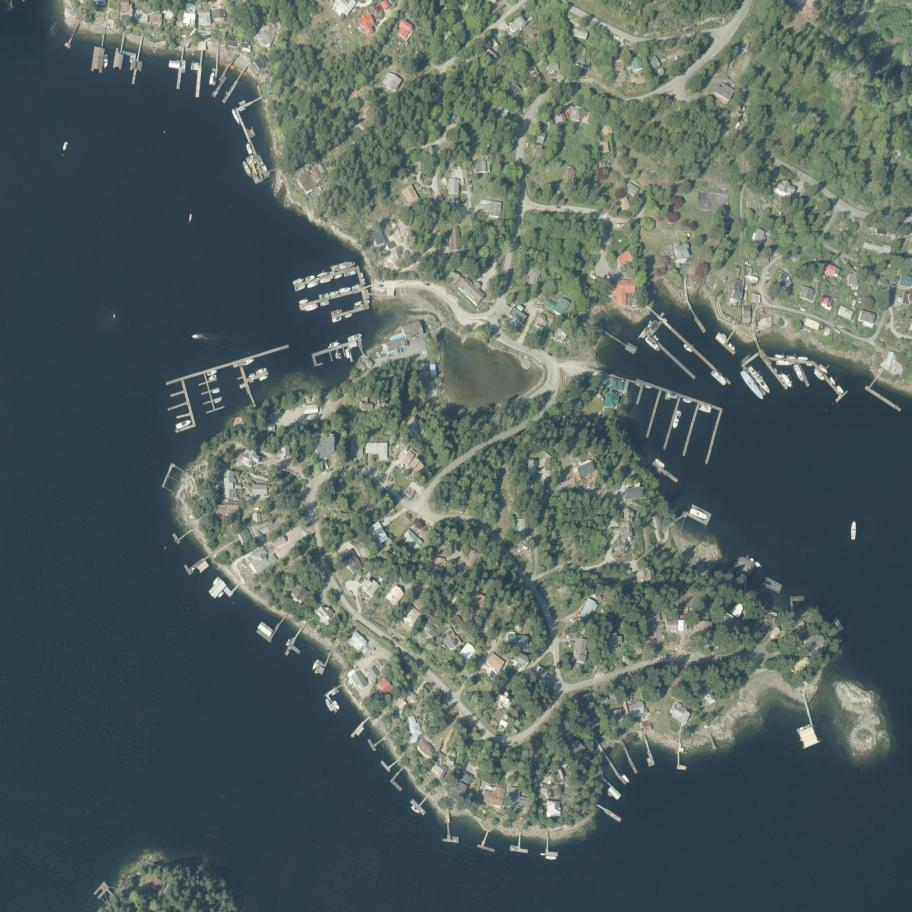ship: (738, 369, 766, 403), (746, 364, 773, 397), (244, 154, 265, 185), (688, 506, 710, 522), (330, 260, 357, 273), (710, 369, 729, 387), (643, 335, 661, 354), (792, 363, 806, 383), (779, 371, 794, 389), (240, 160, 253, 178), (175, 418, 193, 431), (746, 556, 763, 569), (672, 410, 683, 430), (299, 303, 319, 313), (813, 368, 827, 382), (231, 109, 242, 125), (347, 332, 363, 343), (324, 697, 334, 713), (241, 357, 256, 367), (653, 458, 666, 469), (699, 404, 713, 414), (818, 363, 829, 375), (331, 699, 342, 711), (256, 367, 269, 377), (311, 659, 321, 672), (244, 142, 253, 156), (682, 343, 693, 354), (343, 270, 358, 278), (775, 360, 795, 366), (850, 521, 856, 541), (330, 308, 343, 317), (306, 280, 319, 289), (337, 286, 351, 294), (621, 773, 631, 784), (410, 804, 421, 814), (319, 299, 331, 308), (292, 277, 305, 285), (293, 284, 306, 292), (208, 374, 219, 383), (330, 688, 341, 697), (209, 71, 216, 85), (304, 274, 316, 282), (328, 341, 340, 349), (297, 298, 310, 305), (316, 271, 329, 278), (727, 343, 737, 352), (212, 576, 221, 586), (682, 397, 693, 405), (667, 392, 678, 400), (319, 277, 331, 284), (206, 369, 218, 376), (836, 385, 845, 394), (237, 99, 247, 107), (61, 141, 69, 151), (829, 376, 837, 386), (332, 316, 342, 324), (181, 60, 187, 73), (103, 53, 108, 68), (318, 293, 330, 299), (646, 321, 654, 330), (211, 388, 221, 395), (259, 375, 269, 382), (344, 349, 351, 359), (774, 353, 785, 359), (353, 303, 364, 309), (652, 334, 660, 342), (217, 591, 225, 599), (214, 398, 223, 405), (351, 284, 361, 290), (329, 290, 339, 296), (353, 300, 363, 306), (786, 354, 796, 360), (798, 356, 809, 361), (334, 274, 343, 280), (344, 313, 353, 319), (248, 373, 256, 379), (188, 214, 193, 223), (804, 724, 811, 730), (799, 307, 807, 312), (334, 353, 339, 361), (362, 278, 367, 285), (799, 726, 806, 731), (239, 385, 246, 390), (452, 835, 460, 839), (359, 272, 364, 278), (192, 334, 199, 338), (339, 353, 342, 360)
small-vehicle: (616, 223, 625, 228), (477, 276, 483, 282), (497, 318, 501, 326), (517, 548, 522, 554), (328, 467, 334, 472), (323, 470, 329, 475), (613, 36, 620, 40), (548, 352, 553, 357), (254, 507, 260, 511), (423, 283, 430, 286), (422, 351, 429, 354), (469, 186, 472, 193), (656, 710, 661, 714), (378, 285, 384, 288), (484, 202, 490, 205), (564, 209, 569, 212), (556, 206, 561, 209)
